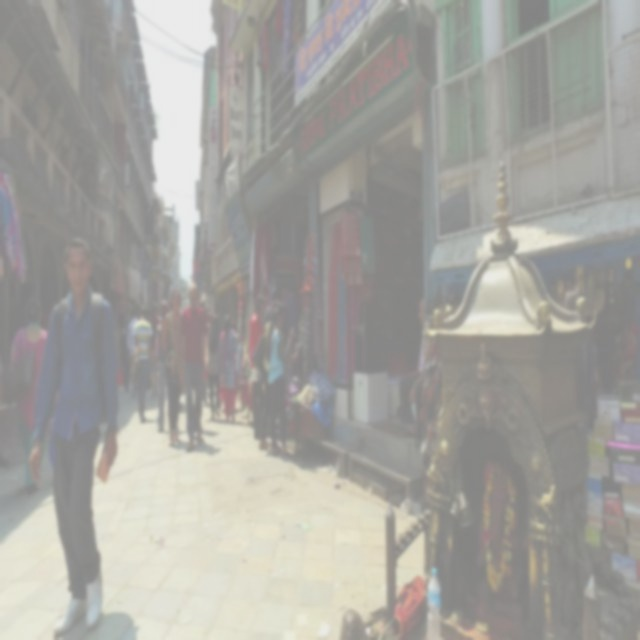pessoa: (26, 235, 120, 638), (0, 294, 52, 494), (552, 284, 638, 394), (250, 297, 288, 452), (178, 280, 209, 452), (266, 305, 296, 459), (159, 286, 186, 448), (396, 297, 427, 428), (248, 294, 268, 442), (152, 297, 172, 435), (132, 305, 154, 424), (218, 314, 238, 426), (204, 312, 222, 422), (142, 290, 212, 316), (147, 300, 162, 399), (126, 305, 140, 400), (176, 426, 222, 454), (118, 316, 132, 394), (229, 46, 243, 112), (263, 286, 278, 326), (206, 115, 218, 146), (230, 316, 237, 331)
